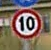limite 10: (10, 8, 42, 39)
